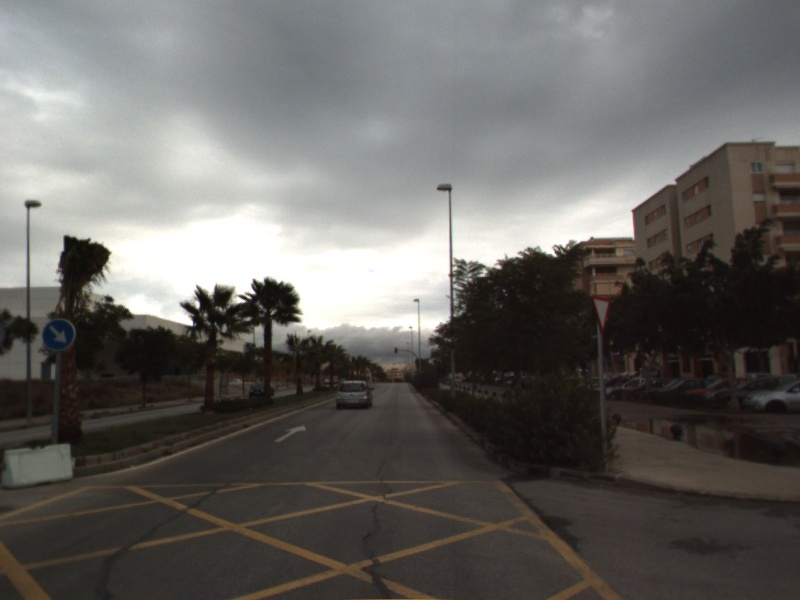STRAIGHT: (272, 423, 308, 444)
